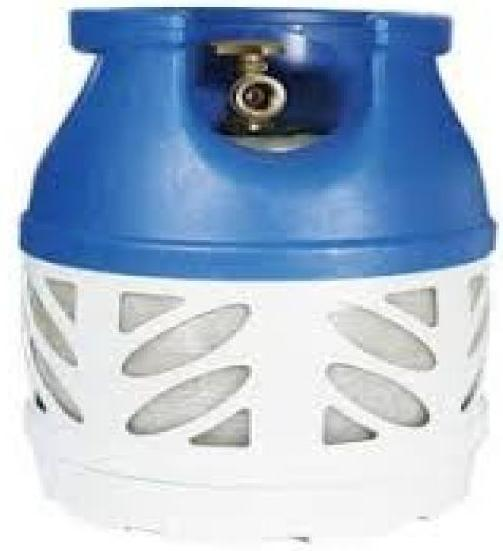cylinder: (1, 1, 503, 551)
